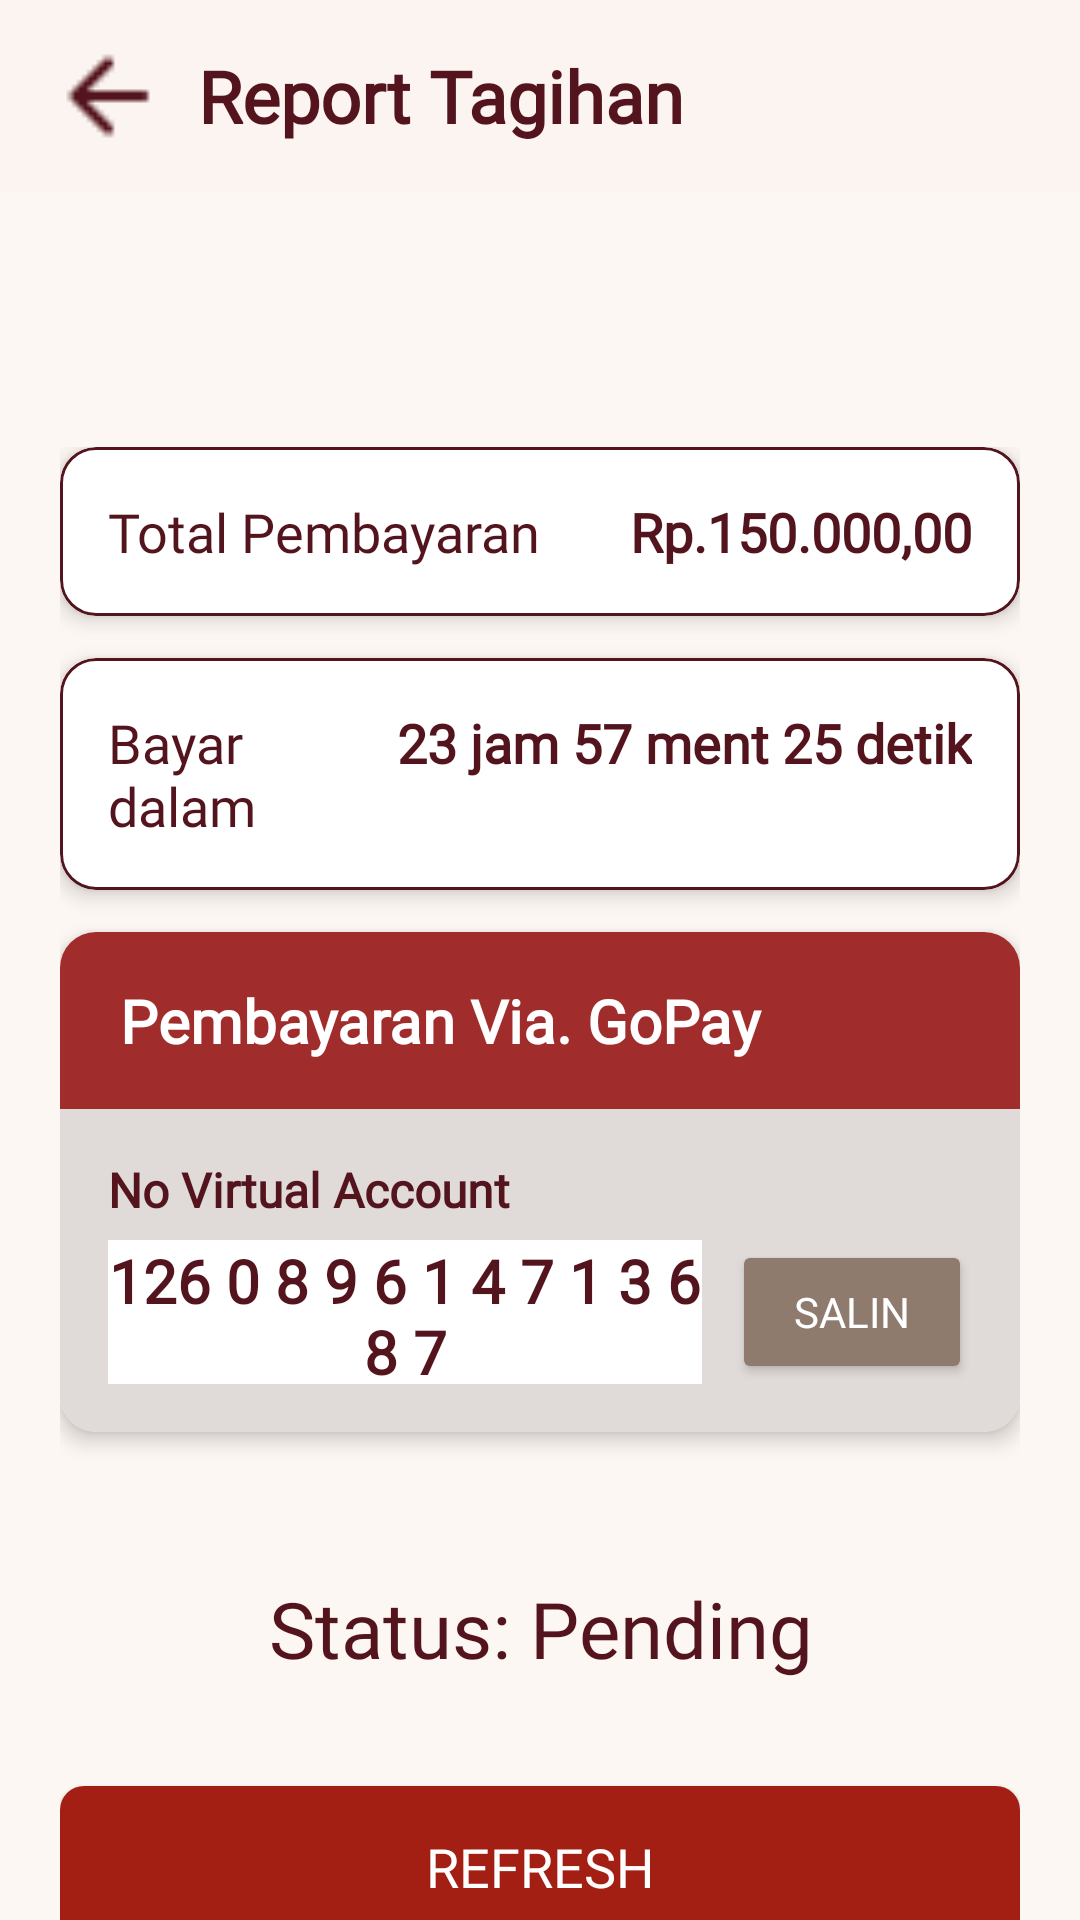

Named icons in this screenshot (1080 × 1920) and their bounding boxes, BBox(x1, y1, x2, y2):
Kembali: BBox(67, 55, 150, 137)
